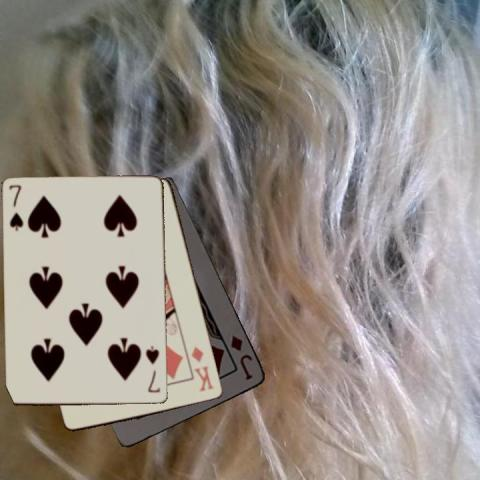7s: (143, 343, 162, 394), (7, 182, 24, 233)
Jd: (228, 333, 255, 382)
Kd: (189, 344, 216, 393)
